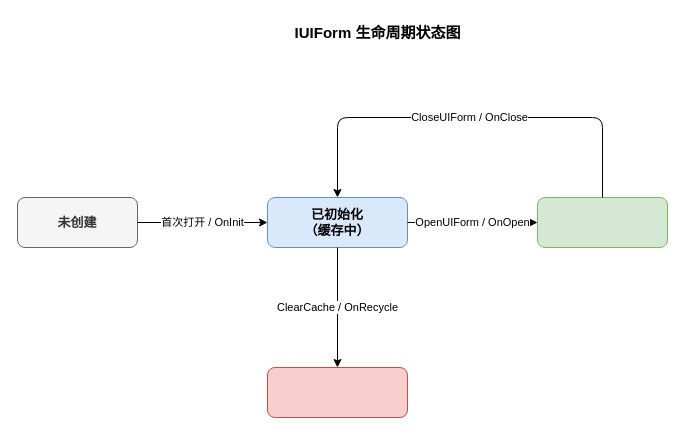
Some shapes in this 685 by 435 pixel diagram are drawn without their labels. The shapes that lost their labels are listed below. From the top down, each one's centre as x and y in pixels, then its label:
(602,222): 激活 / 可见
(337,392): 已销毁
